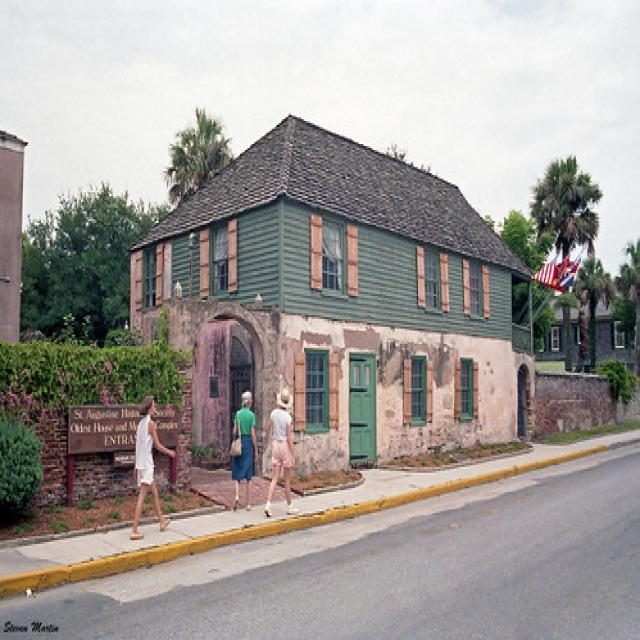building: (123, 109, 536, 478)
